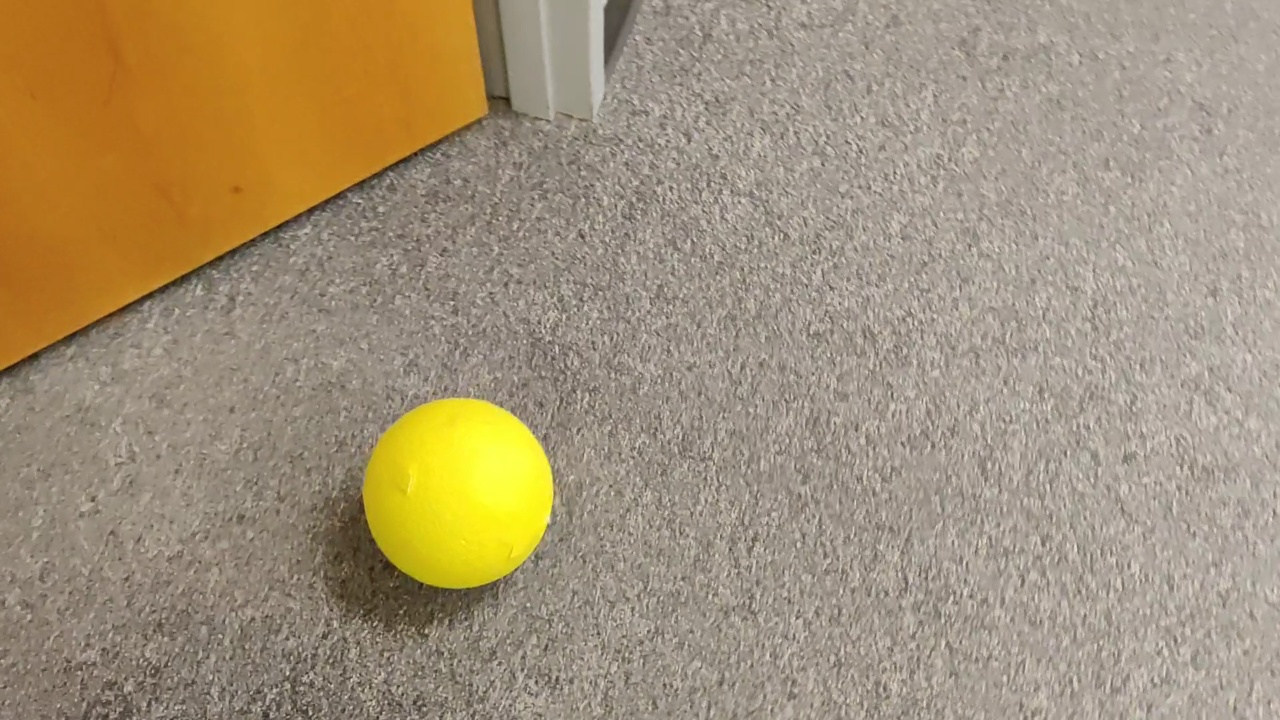Ball: (358, 393, 567, 605)
